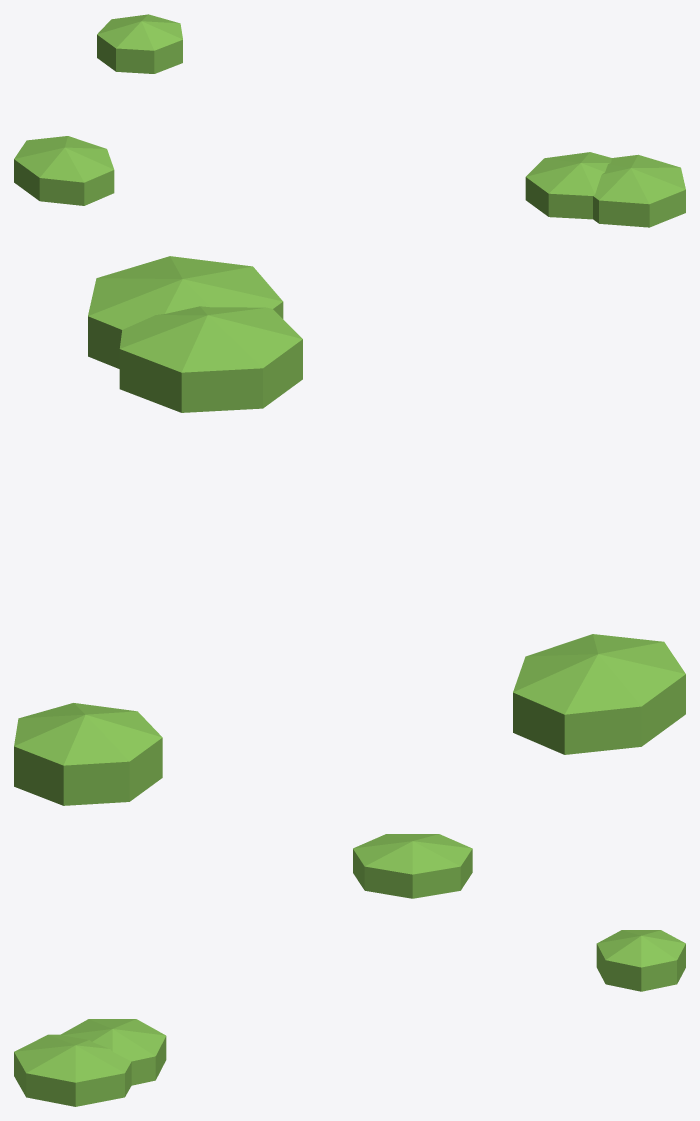
The model's file is fd_slime__3.glb.
3 views of the same model, one above another, from view 1: azimuth 30°, elevation 25°; view 2: azimuth 150°, elevation 25°; view 3: azimuth 270°, elevation 25° (orthographic). The views are drawn at different scales.
Visible parts, largest first — view 1: block_bead (×4); view 2: block_bead (×4); view 3: block_bead (×4).
Boxes of the visible parts, box(x1,y1,x2,y2) form: block_bead (×4): box(14, 14, 685, 227); block_bead (×4): box(14, 256, 685, 805); block_bead (×4): box(14, 834, 685, 1106).
Size of what is drawn, in the model's own units: 0.2973 by 0.027 by 0.3394.
Materials: 1 (1 with a texture image).
